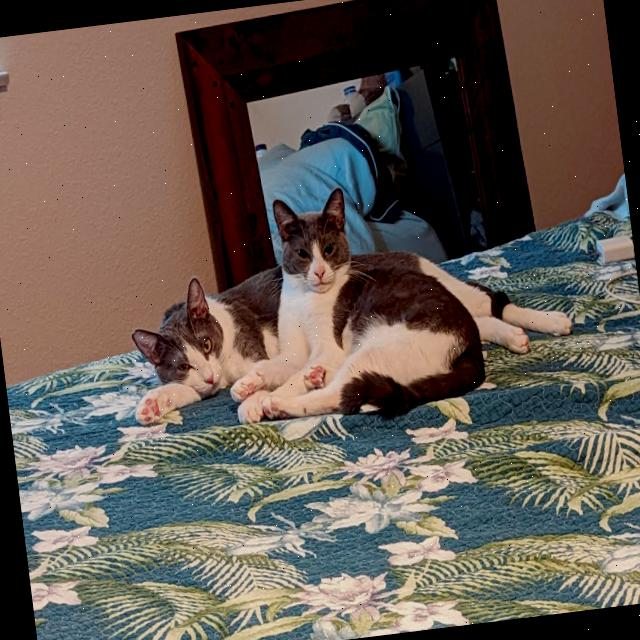domestic_short_hair_cat: (121, 268, 236, 412), (263, 180, 369, 309)
